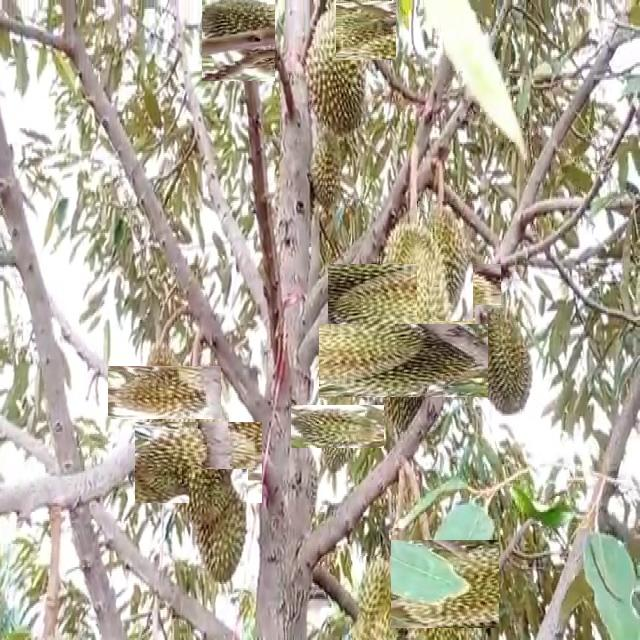durian: (352, 238, 476, 362), (343, 300, 464, 421), (146, 411, 251, 515), (396, 534, 495, 633), (301, 4, 369, 139), (123, 351, 207, 434), (189, 470, 248, 588), (475, 305, 535, 416), (418, 202, 473, 322), (197, 0, 278, 77), (352, 556, 414, 638), (303, 393, 372, 461), (336, 0, 396, 60), (305, 128, 343, 214)
